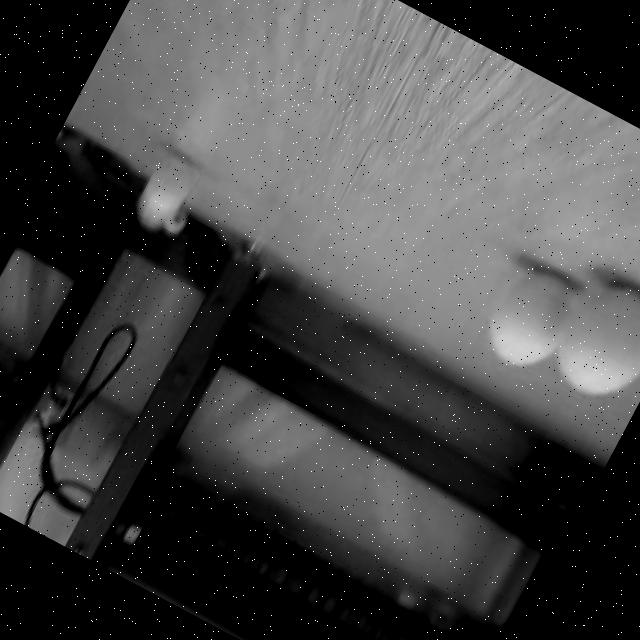ping-pong-ball: (468, 249, 590, 383), (542, 261, 640, 412), (122, 148, 205, 243)
